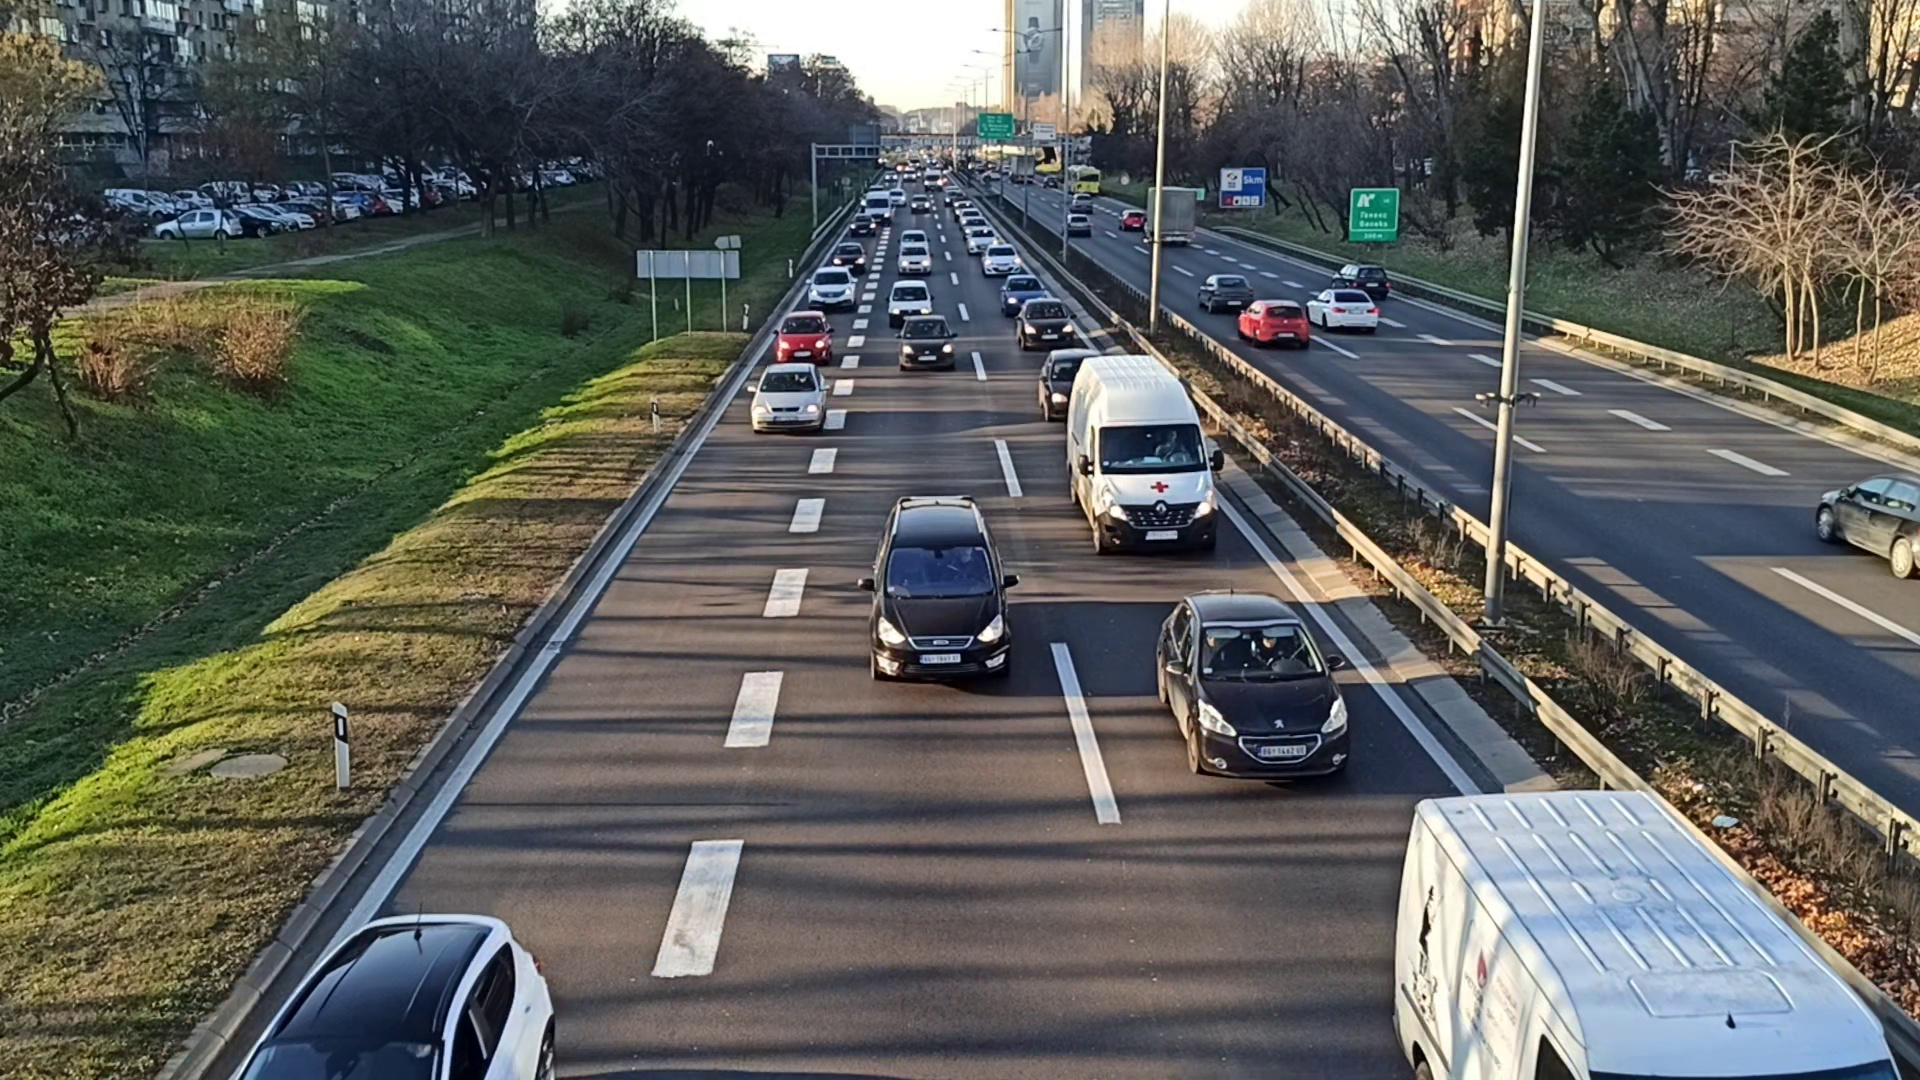car: (1155, 597, 1350, 783), (868, 498, 1015, 684), (746, 364, 827, 429), (899, 313, 956, 371), (1236, 301, 1308, 345), (1307, 290, 1377, 332), (1040, 352, 1091, 409), (775, 310, 829, 361), (1017, 299, 1069, 347), (807, 266, 856, 313), (1338, 261, 1389, 298), (1196, 276, 1251, 309), (890, 280, 932, 319), (985, 244, 1021, 276), (829, 240, 865, 269), (898, 243, 930, 274), (851, 216, 876, 235), (911, 194, 930, 214)
van: (1069, 360, 1216, 554)
